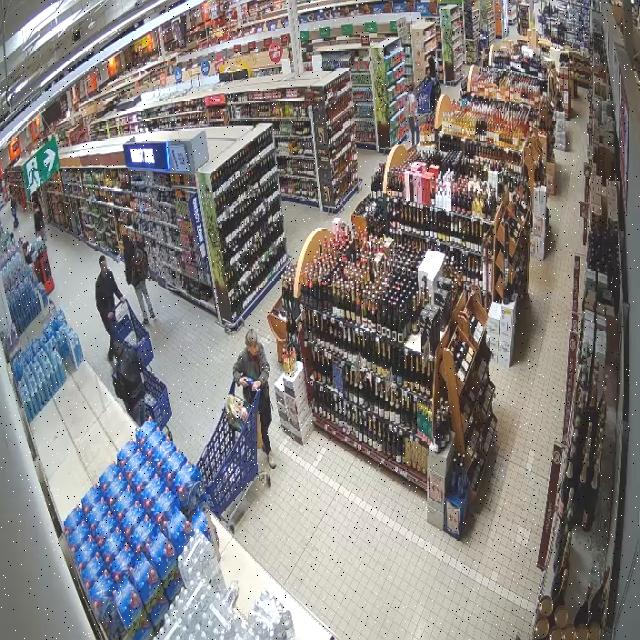bags: (130, 239, 149, 284)
hands: (239, 376, 250, 388), (252, 380, 261, 391), (107, 312, 115, 320), (120, 296, 125, 305)
person: (233, 329, 275, 468), (95, 257, 124, 363), (123, 234, 155, 323)
